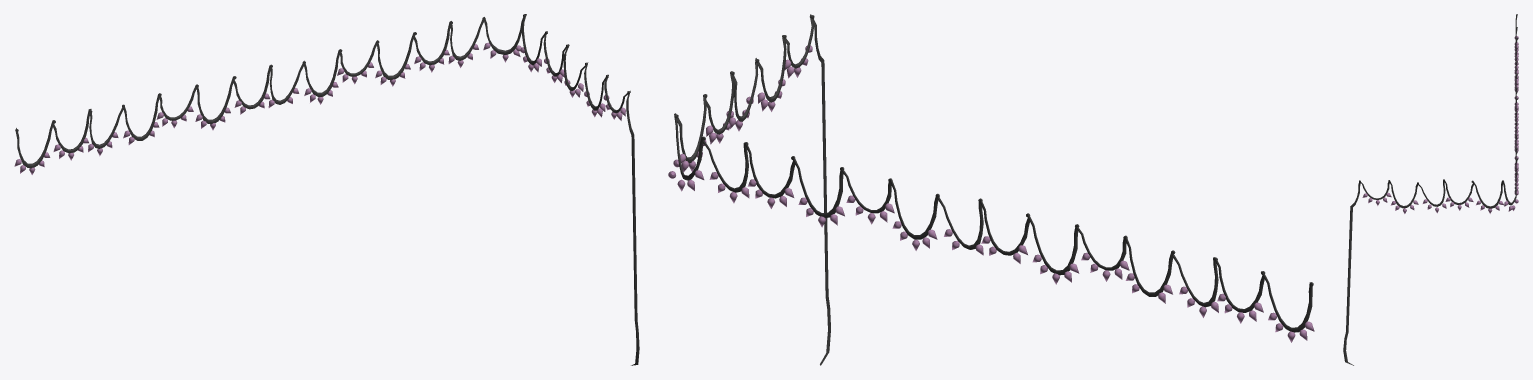
The model's file is fairy_lights 1.fbx.
3 renders of one model, left to right at view 1: azimuth 30°, elevation 25°; view 2: azimuth 150°, elevation 25°; view 3: azimuth 270°, elevation 25°, orthographic. The views are drawn at different scales.
Visible parts, largest first — view 1: sketchfab_render:pTorus12; view 2: sketchfab_render:pTorus12; view 3: sketchfab_render:pTorus12.
Part boxes in pixels (<box>): sketchfab_render:pTorus12: <box>14,14,639,365</box>; sketchfab_render:pTorus12: <box>668,14,1314,365</box>; sketchfab_render:pTorus12: <box>1343,14,1518,365</box>.
Bounding box in the file's own units: 3397 × 1766 × 1498.
